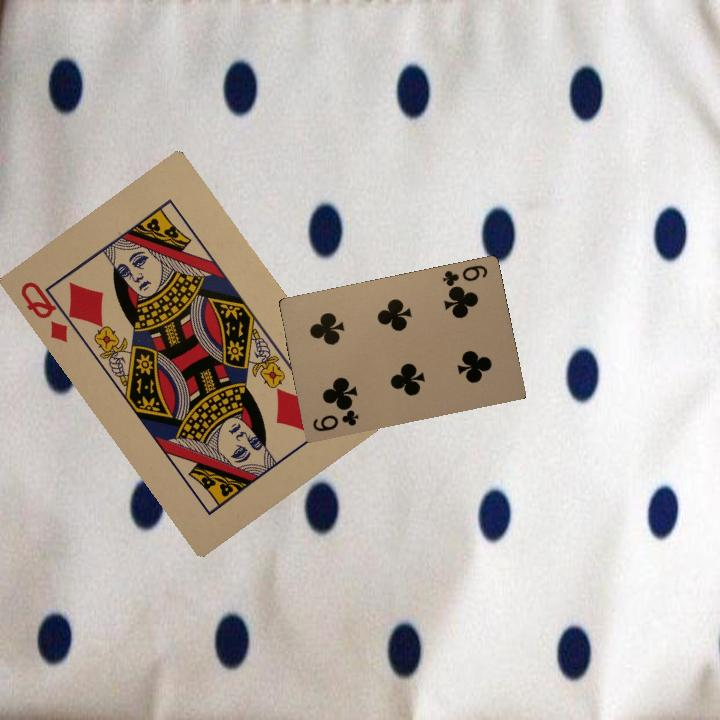6c: (438, 261, 490, 293), (309, 404, 361, 434)
Qd: (16, 277, 82, 345)
